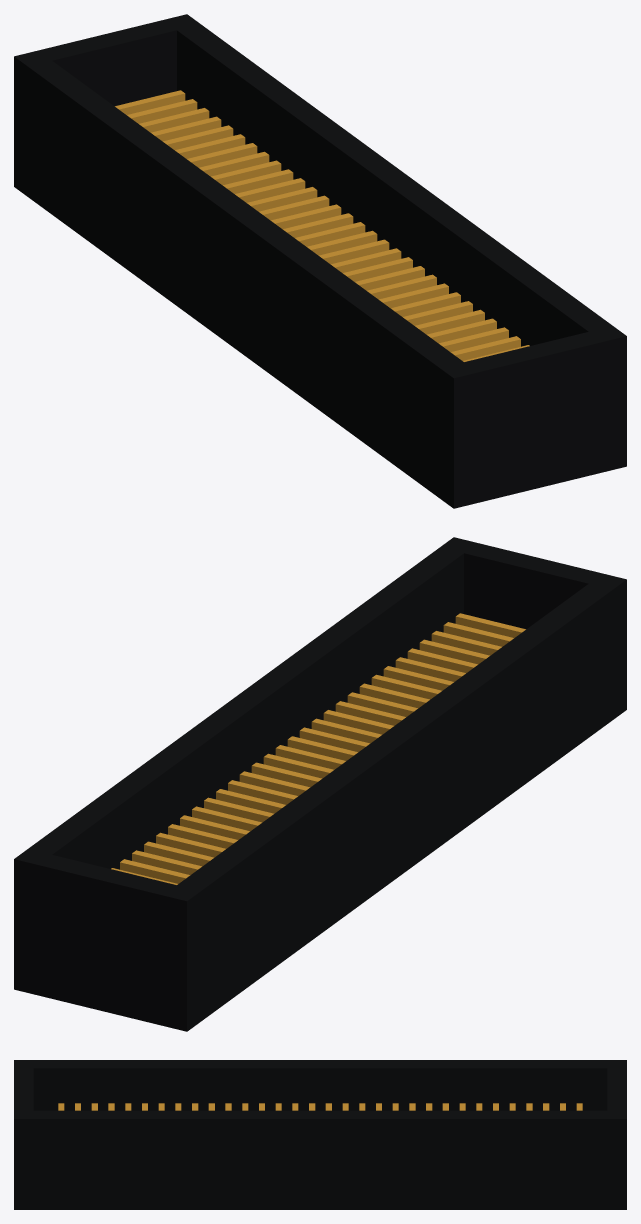
3 renders of one model, top to bottom at view 1: azimuth 30°, elevation 25°; view 2: azimuth 150°, elevation 25°; view 3: azimuth 270°, elevation 25°, orthographic. The views are drawn at different scales.
Visible parts, largest first — view 1: M2_1_Black, M2_1_Gold; view 2: M2_1_Black, M2_1_Gold; view 3: M2_1_Black, M2_1_Gold.
Part boxes in pixels (<box>): M2_1_Black: <box>14,14,626,508</box>; M2_1_Gold: <box>115,90,529,361</box>; M2_1_Black: <box>14,537,626,1031</box>; M2_1_Gold: <box>111,613,525,884</box>; M2_1_Black: <box>14,1060,626,1209</box>; M2_1_Gold: <box>58,1103,582,1110</box>.
Bounding box in the file's own units: 0.5 × 0.36 × 2.2.
